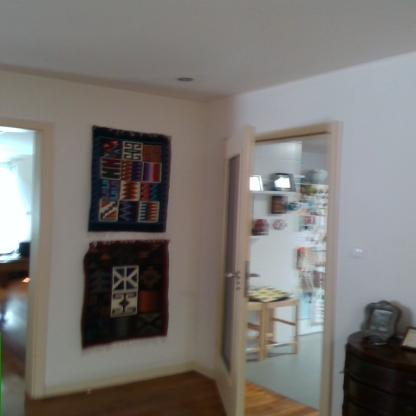open: (0, 106, 62, 412)
semi: (215, 109, 347, 416)
